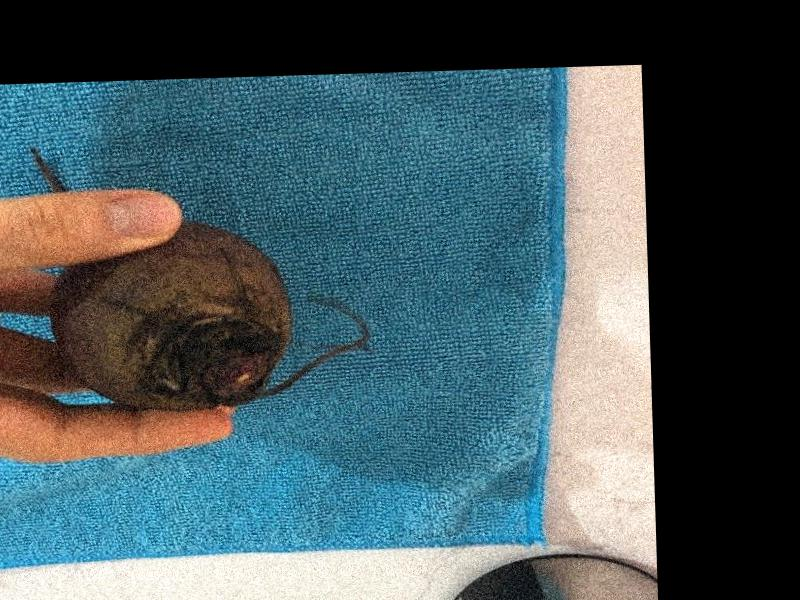Beet: (31, 138, 368, 413)
